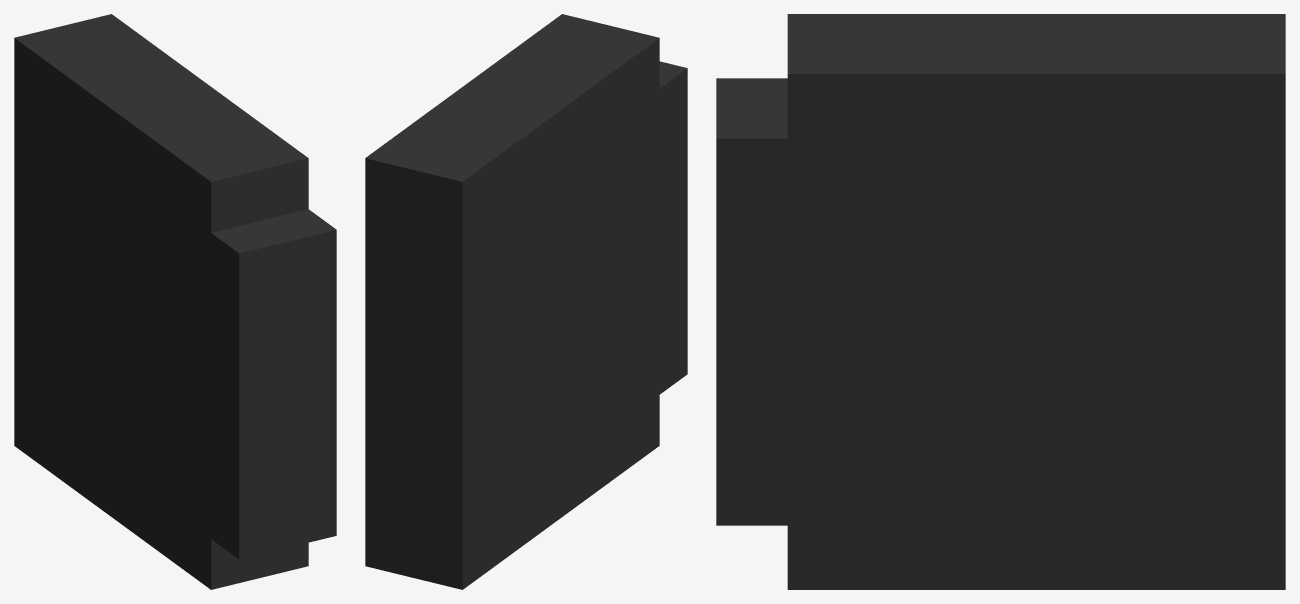
File: ButtonStrong.obj
3 views of the same model, side by side, from view 1: azimuth 30°, elevation 25°; view 2: azimuth 150°, elevation 25°; view 3: azimuth 270°, elevation 25° (orthographic). The views are drawn at different scales.
Size of the model in its own units: 0.2 by 0.8 by 0.8.
1 material, 1 textured.
